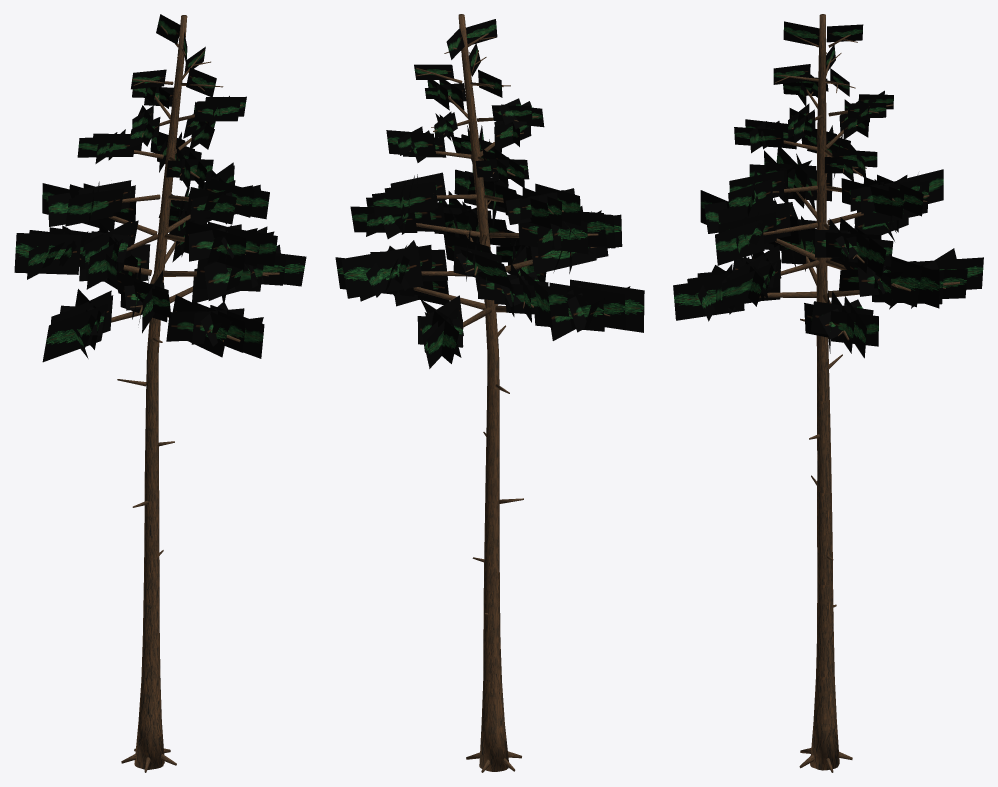
Rendered from terrain_pine_windswept.fbx.
3 renders of one model, left to right at view 1: azimuth 30°, elevation 25°; view 2: azimuth 150°, elevation 25°; view 3: azimuth 270°, elevation 25°, orthographic. The views are drawn at different scales.
Visible parts, largest first — view 1: TerrainPineWindsweptMesh; view 2: TerrainPineWindsweptMesh; view 3: TerrainPineWindsweptMesh.
Part boxes in pixels (bbox=[...]): TerrainPineWindsweptMesh: bbox=[14, 14, 306, 772]; TerrainPineWindsweptMesh: bbox=[335, 14, 644, 772]; TerrainPineWindsweptMesh: bbox=[673, 14, 983, 772].
Size of the model in its own units: 619 by 1642 by 604.
